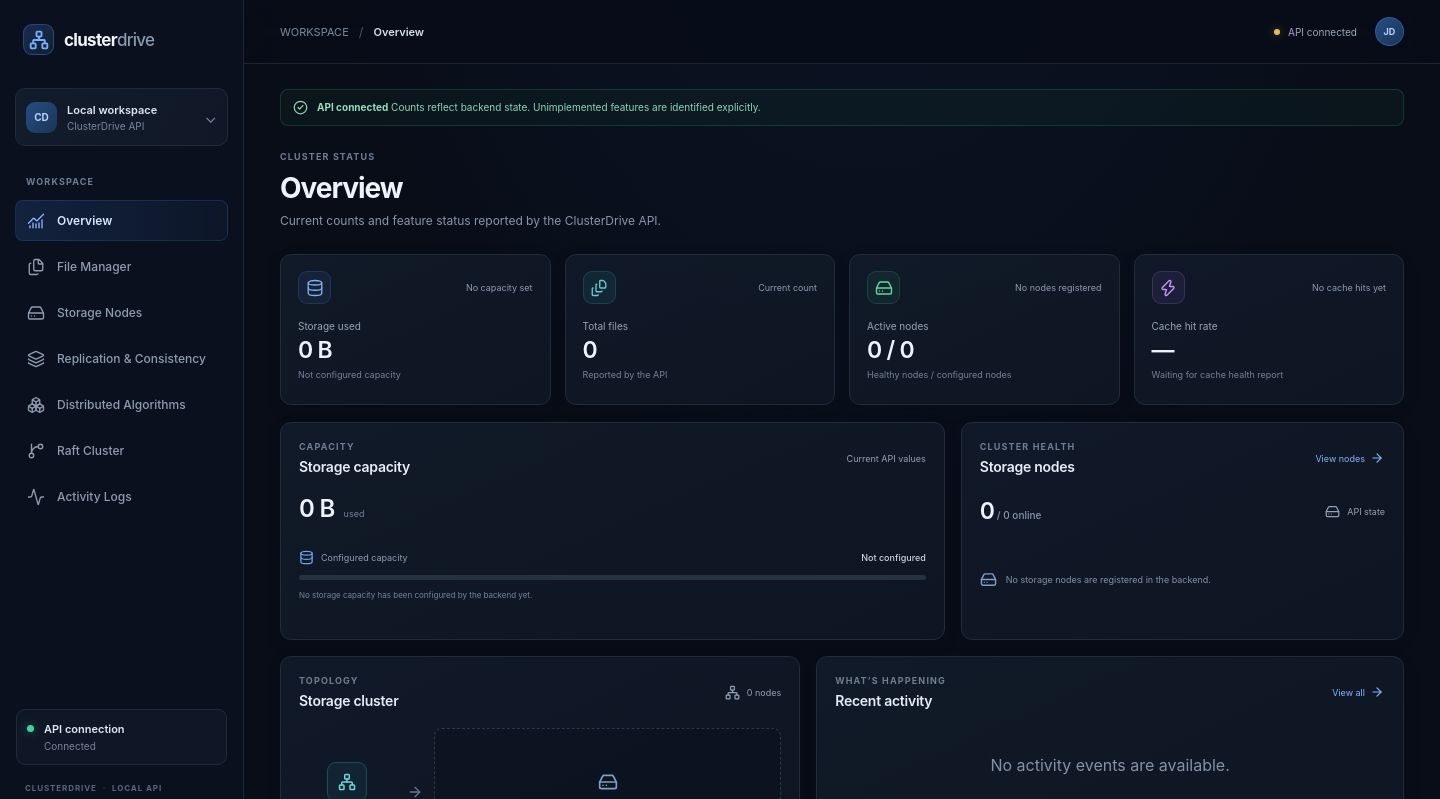
Test case: ClusterDrive API-connected dashboard › shows an empty state in activity logs when the API returns no events
Step 1. Click the button "Activity Logs" → (122, 496), box left=15, top=476, right=228, bottom=517
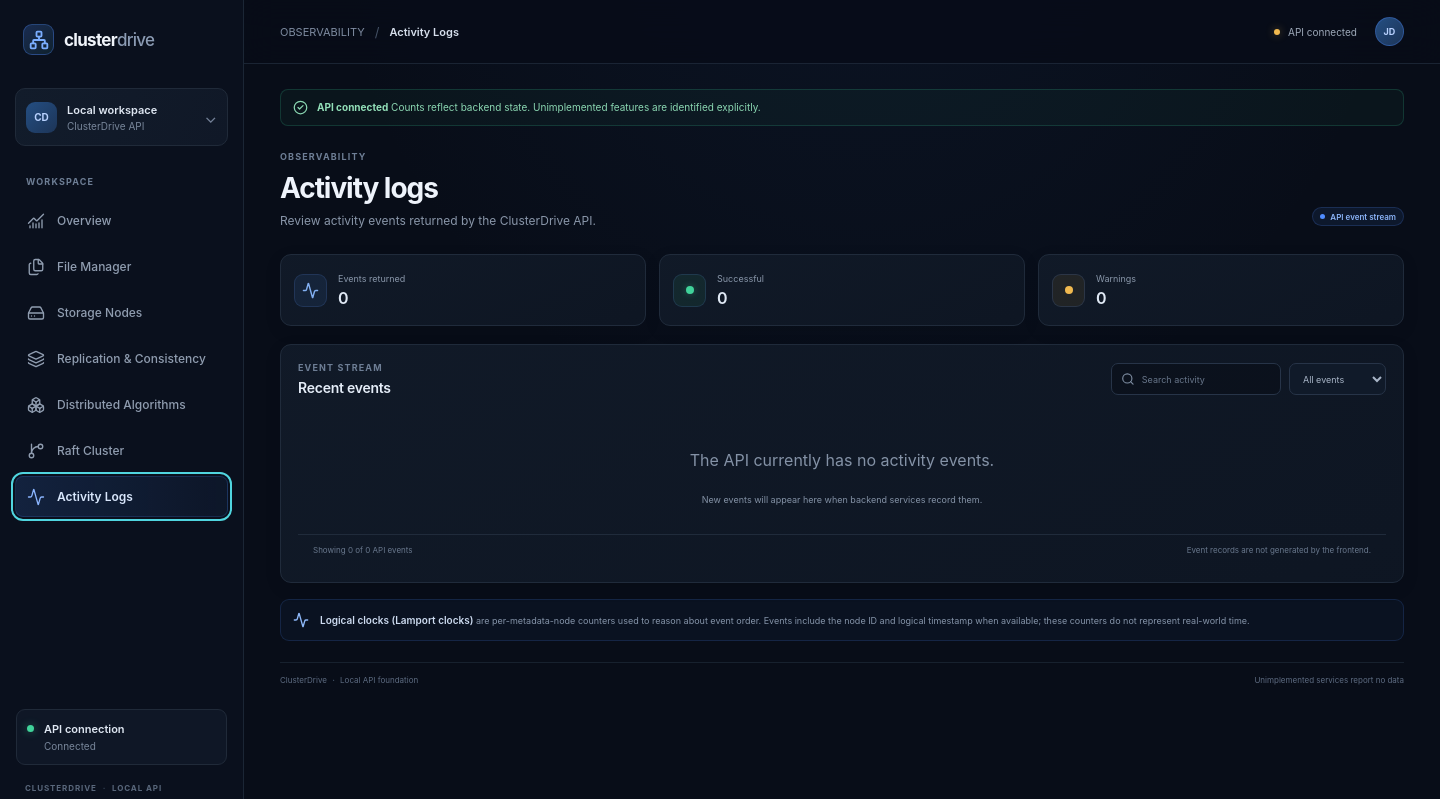
Expected: the text "The API currently has no activity events." is shown, left=690, top=450, right=994, bottom=470
